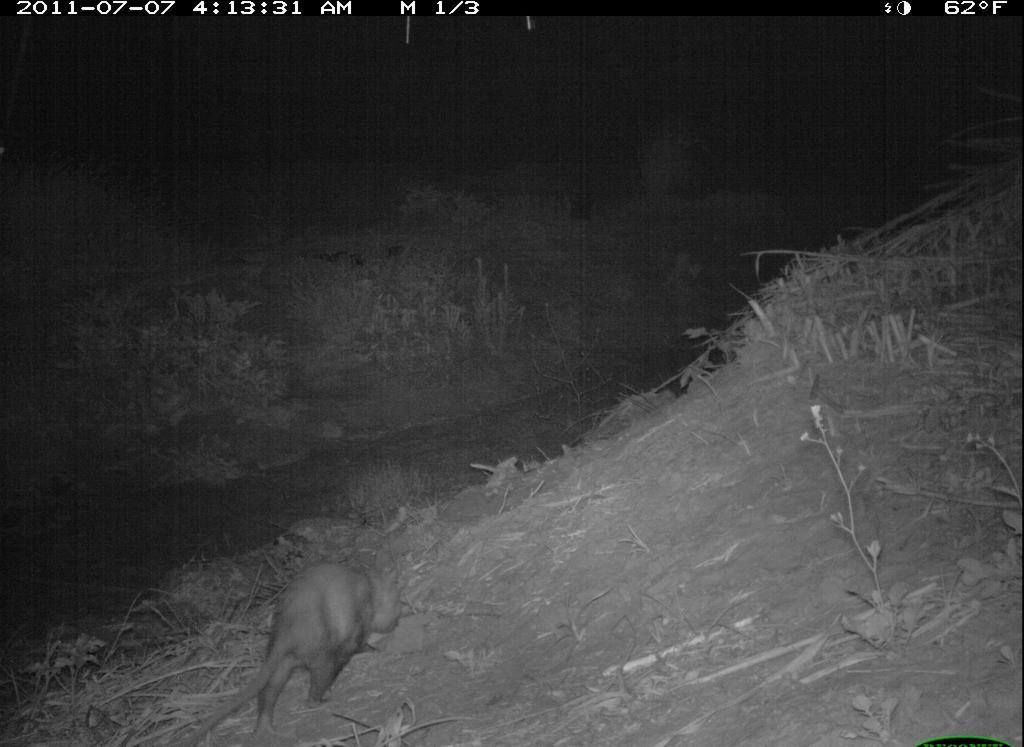opossum: (186, 548, 411, 745)
